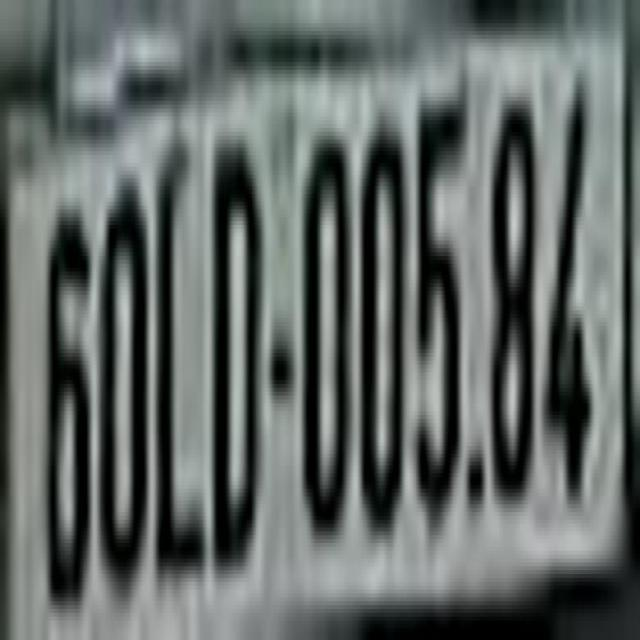0: (98, 178, 149, 586), (300, 124, 350, 539), (358, 132, 404, 527)
4: (542, 54, 594, 504)
5: (413, 81, 462, 516)
6: (44, 198, 90, 605)
8: (487, 74, 536, 496)
D: (213, 128, 257, 570)
L: (154, 159, 204, 582)
